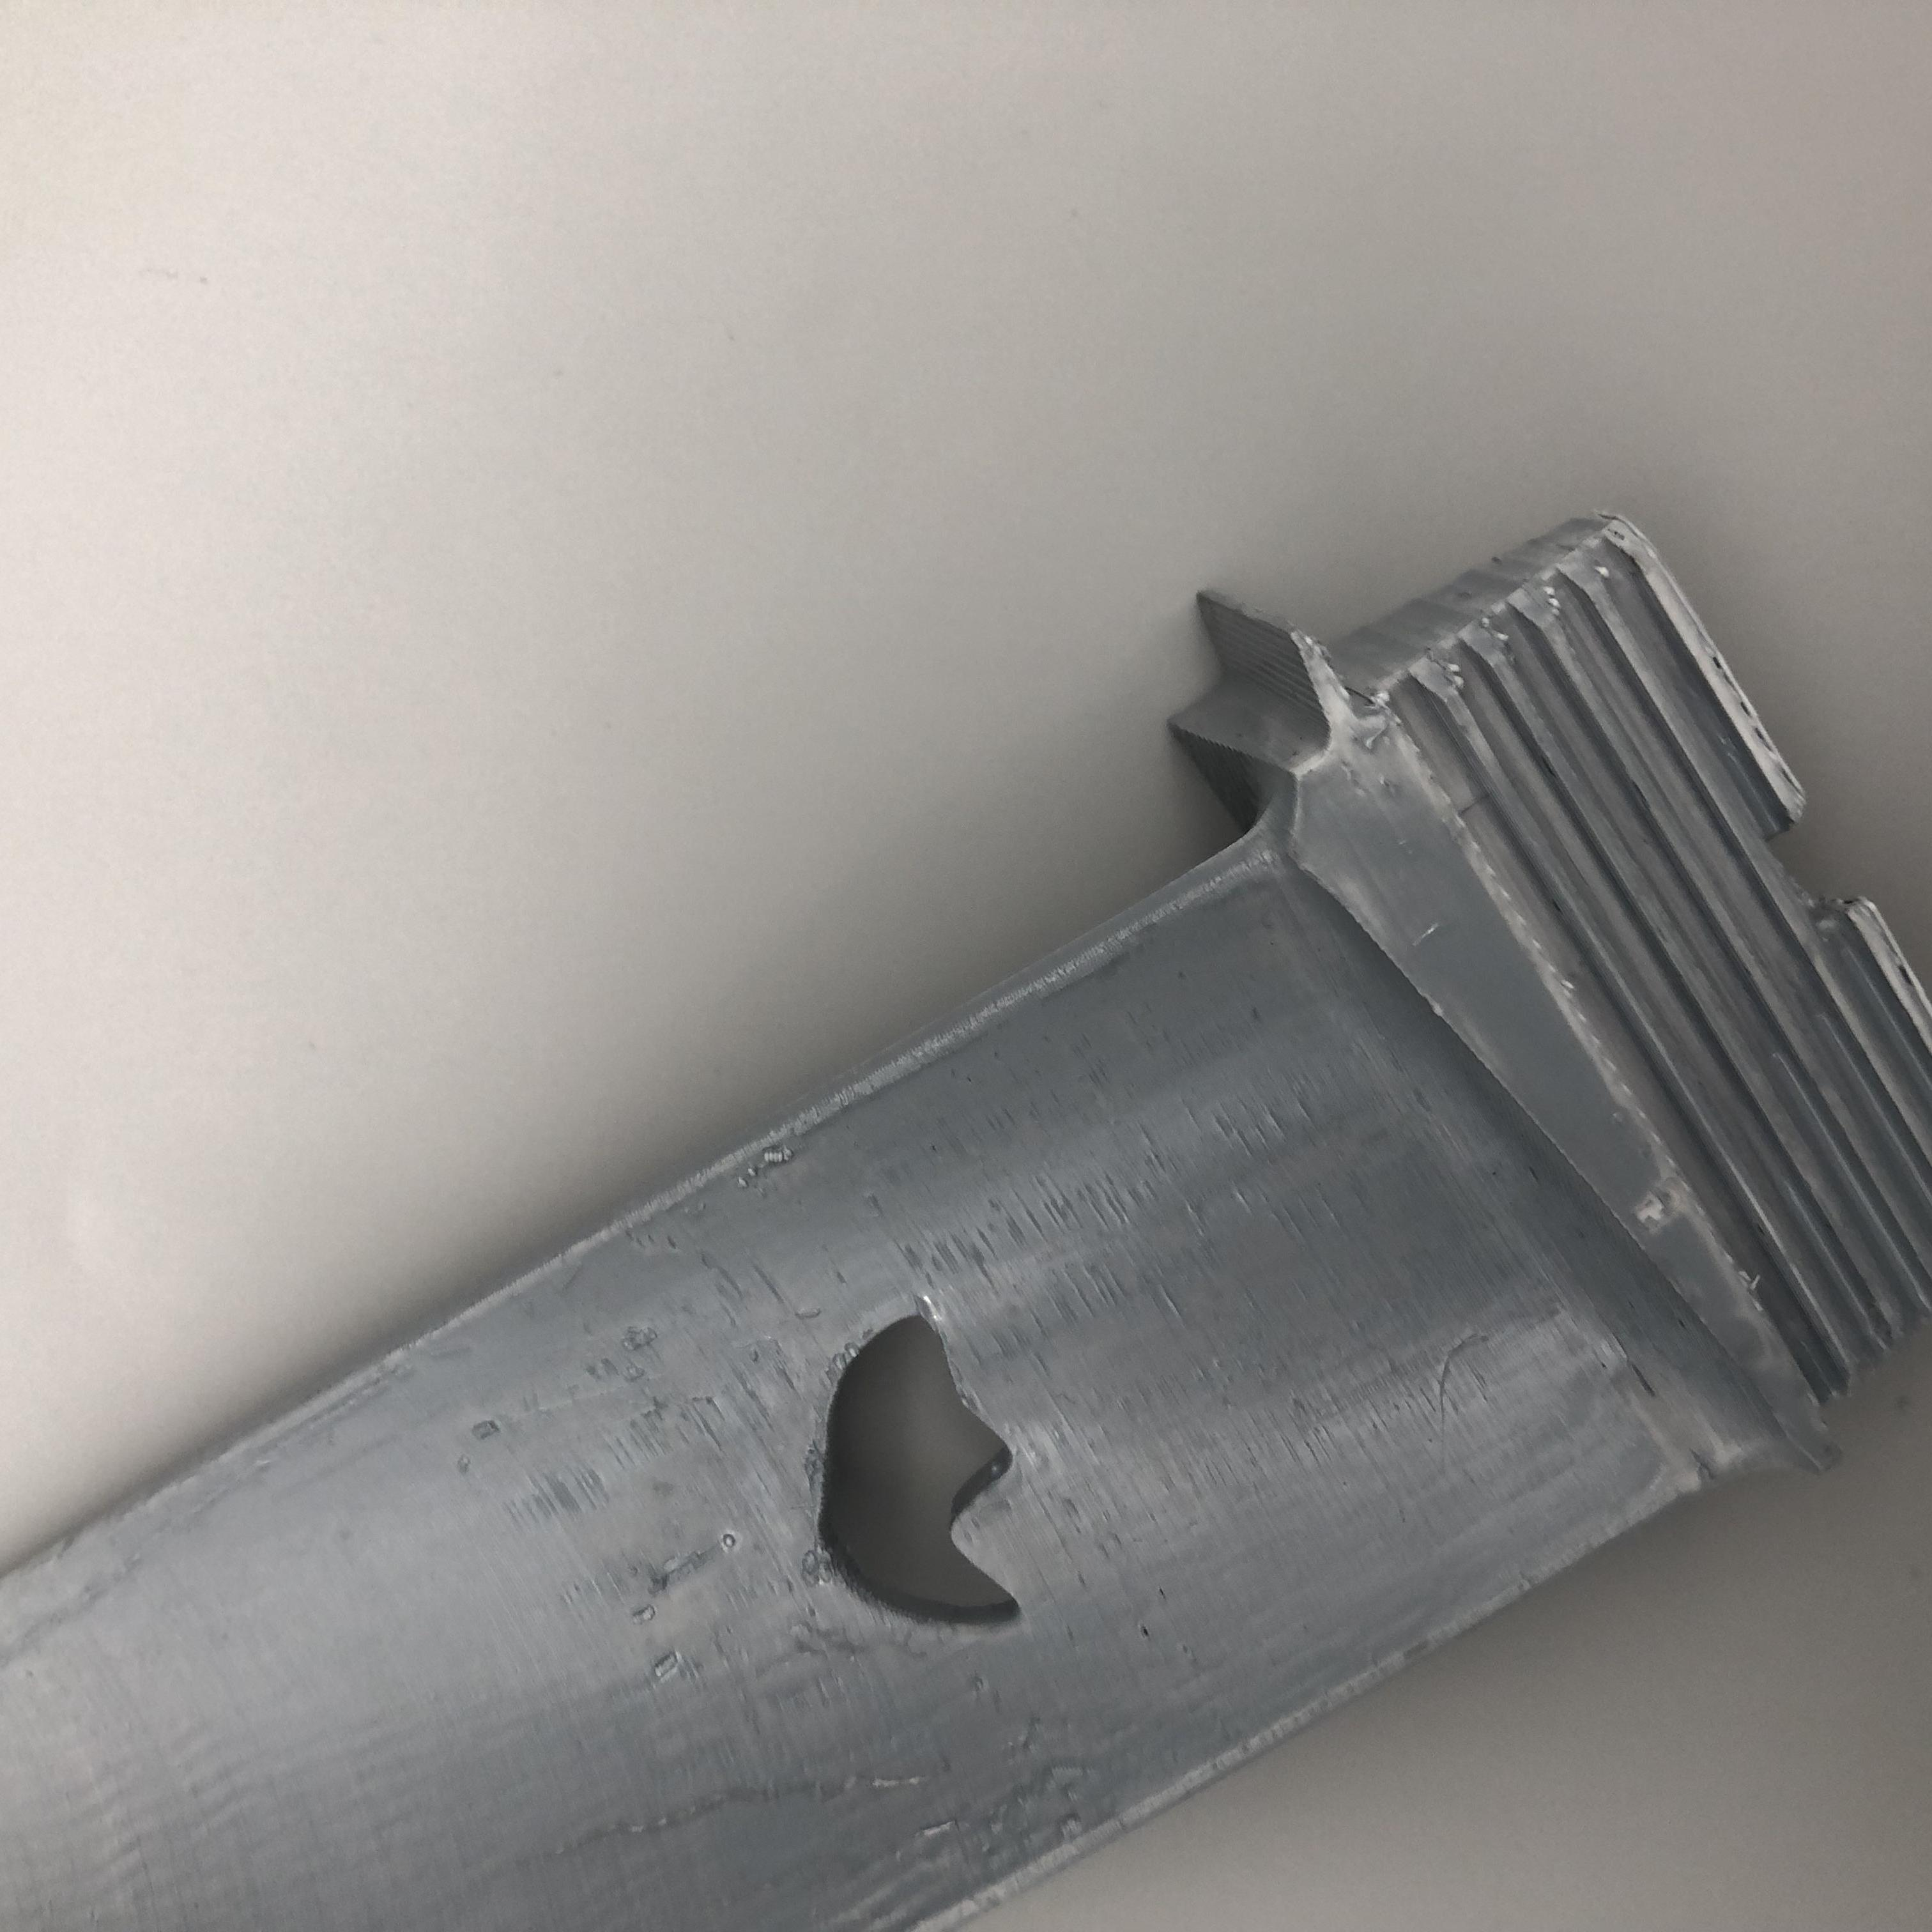breakdown: (805, 1302, 1054, 1649)
